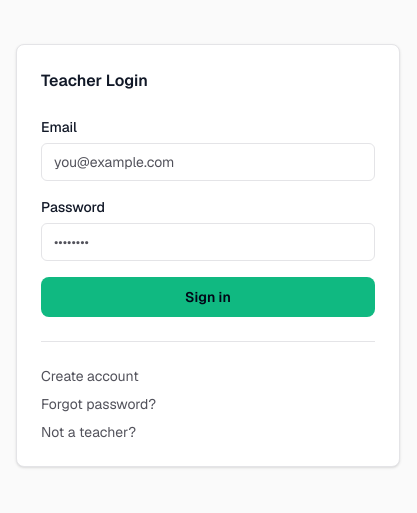
Scenario: teacher login form › offers password recovery without promising administrator approval
Check: the button "Forgot password?" is enabled, box [41,394,156,414]
Type "teacher@example.com" into the field labelled "Email".
click(208, 162); type("teacher@example.com")  # box [41,142,375,180]
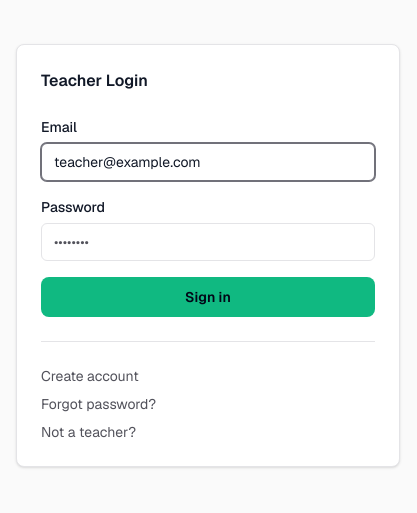
Type "Test123!" into the password field labelled "Password".
click(208, 242); type("Test123!")  # box [41,222,375,260]
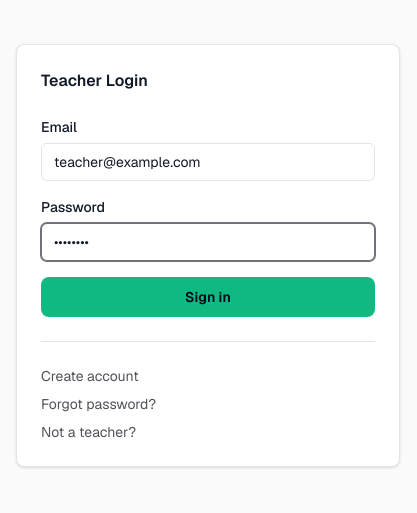
Click the button "Sign in".
click(208, 296)  # box [41,276,375,316]
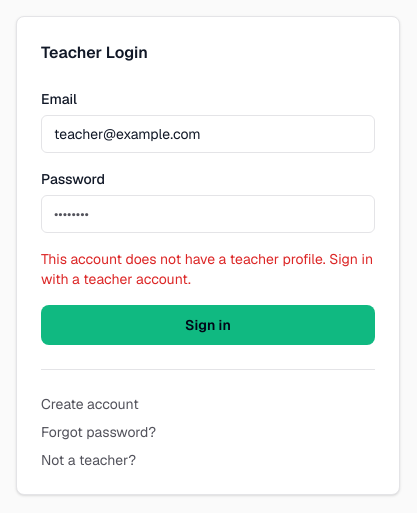
Check: the message does not show "administrator", box [41,248,375,288]
Check: the message shows "does not have a teacher profile", box [41,250,373,288]
